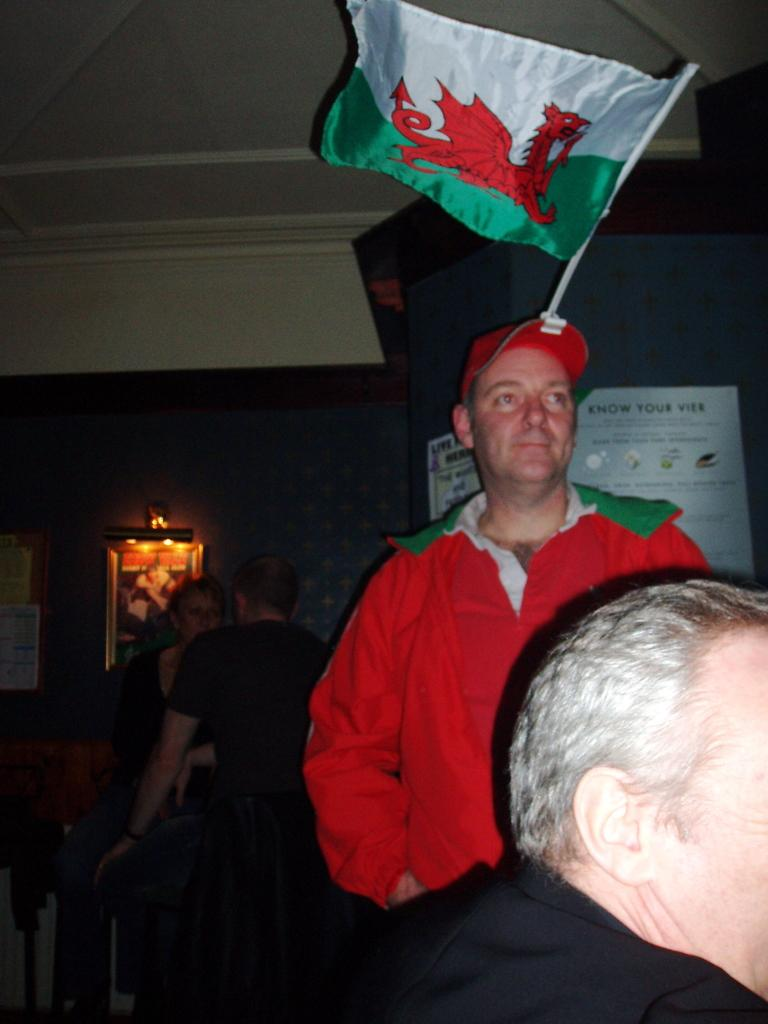Hat: (462, 306, 588, 402)
